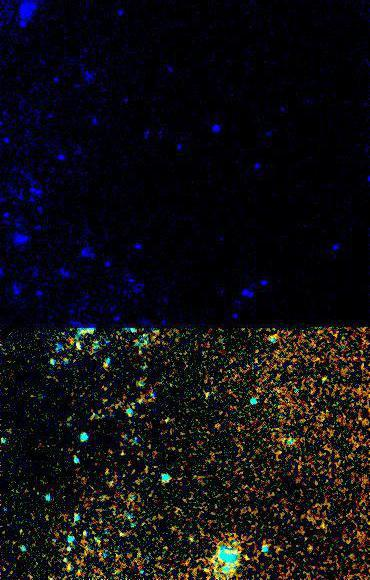star: (91, 350, 121, 380)
